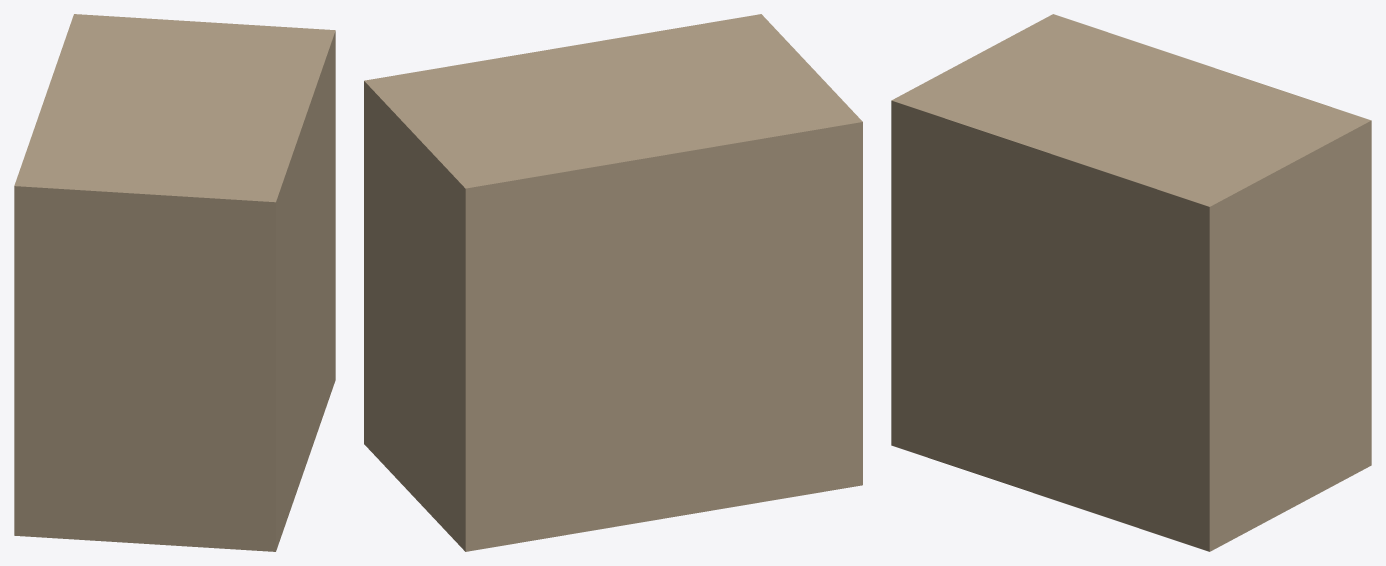
Rendered from bld_99520181.dae.
The picture shows the model from 3 angles, left to right: view 1: azimuth 30°, elevation 25°; view 2: azimuth 150°, elevation 25°; view 3: azimuth 270°, elevation 25°; orthographic projection. The views are drawn at different scales.
Parts seen in each view (by area): view 1: bld_99520181; view 2: bld_99520181; view 3: bld_99520181.
Boxes of the visible parts, <box> form: bld_99520181: <box>14,14,335,551</box>; bld_99520181: <box>364,14,862,551</box>; bld_99520181: <box>891,14,1371,551</box>.
Size of the model in its own units: 9.6 by 10.09 by 8.
